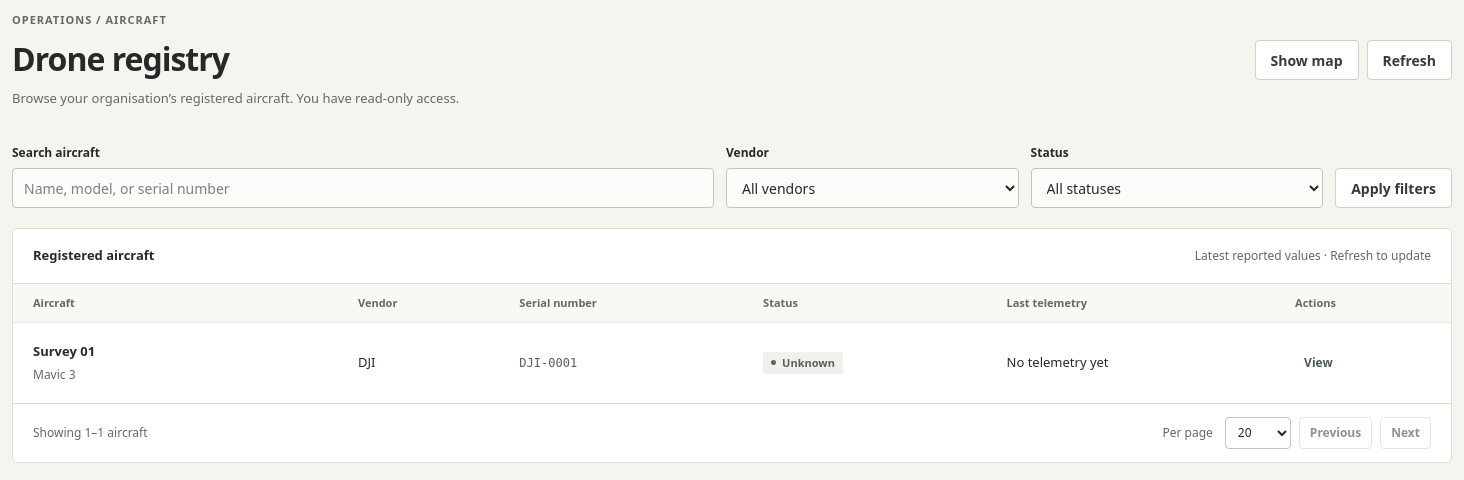
Test: drone registry › refreshes reported status without clearing the applied filters
The width and height of the screenshot is (1464, 480).
Expected: the text "Survey 01" is shown, [33,342,95,360]
Select "DJI" in the dropdown labelled "Vendor": point(872, 188) [726,168,1019,208]
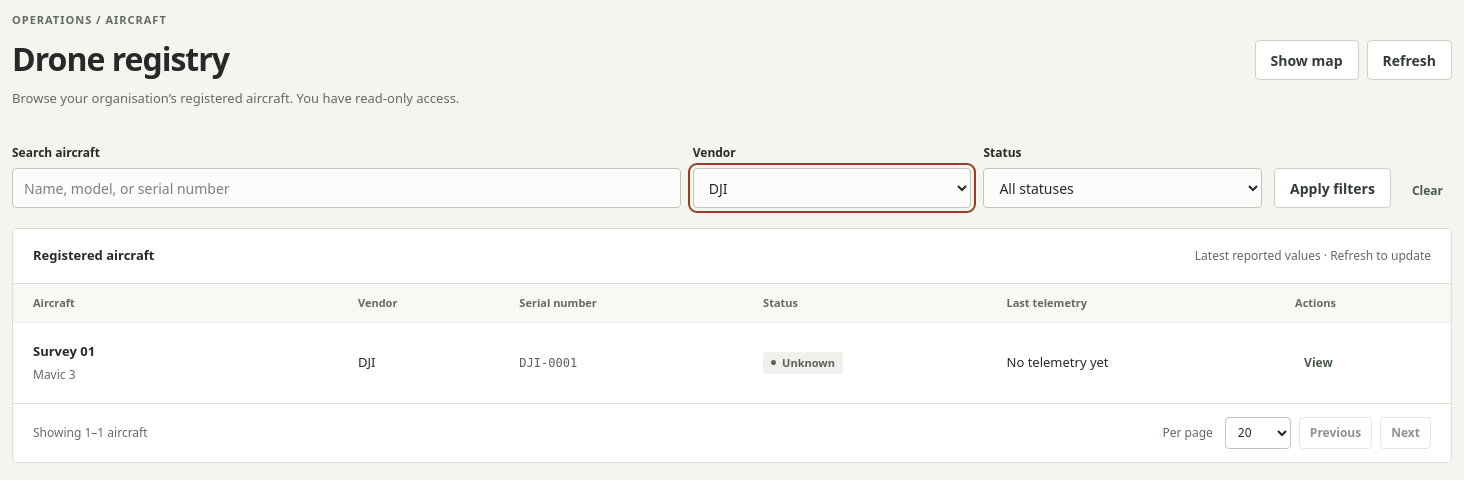
Click the button "Apply filters": point(1332, 188) [1274,168,1391,208]
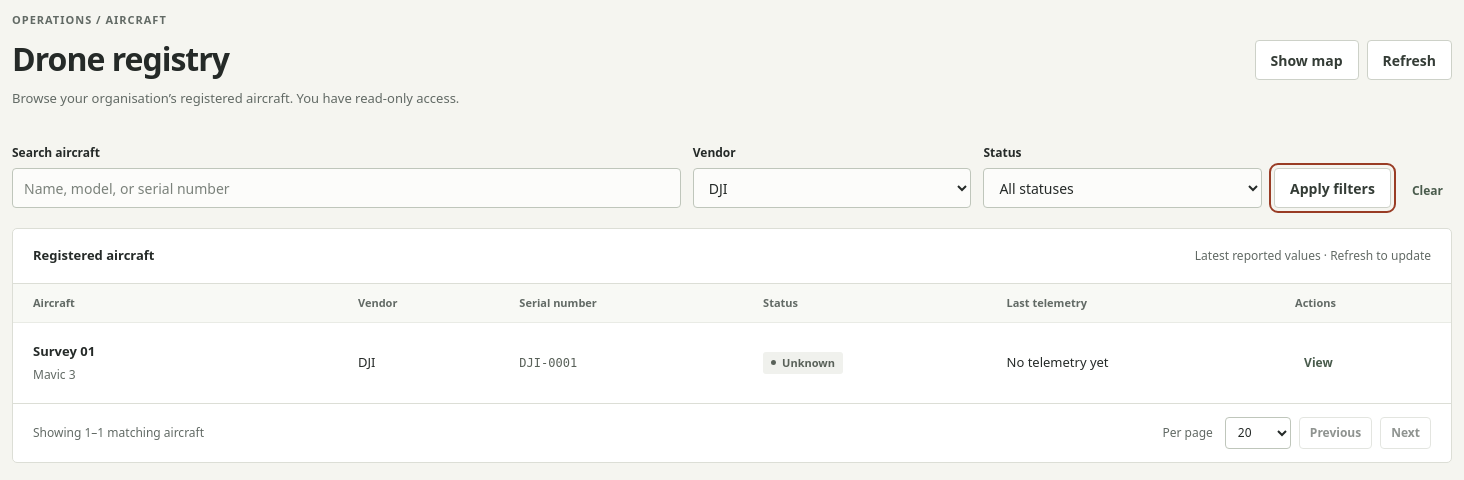
Expected: the text "Survey 01" is shown, [33,342,95,360]
Click the button "Refresh": point(1409, 60) [1366,40,1452,80]
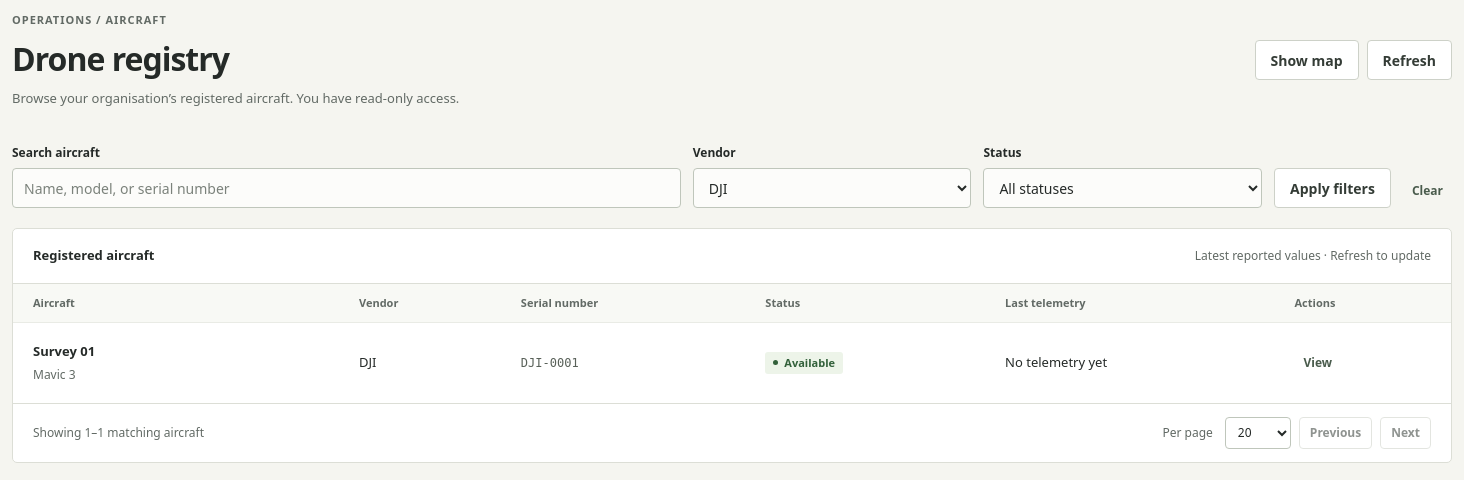
Expected: the text "Available" is shown, [765,352,843,374]
